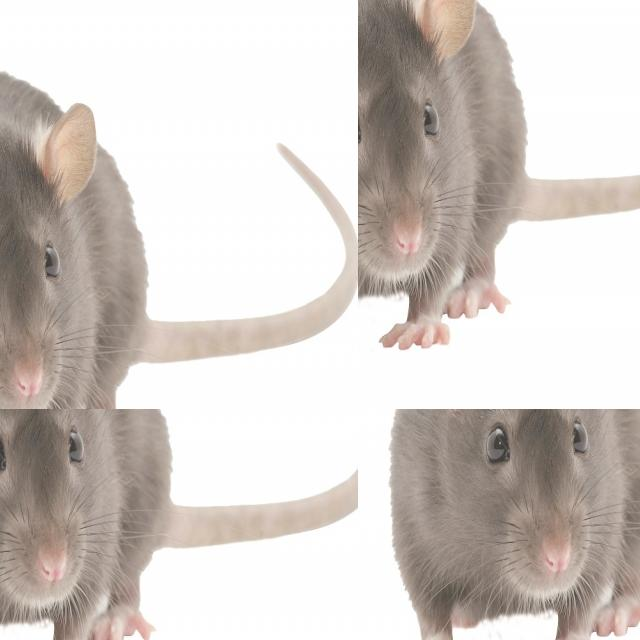rat: (393, 409, 640, 640), (358, 165, 485, 409), (0, 0, 95, 301), (293, 409, 357, 477)
